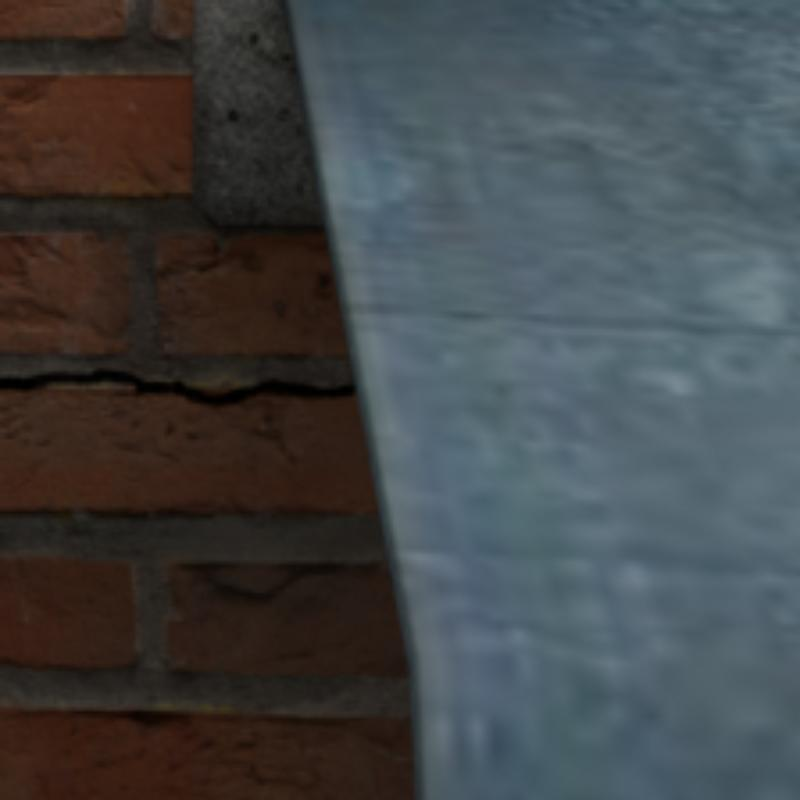pothole: (0, 368, 354, 404), (193, 564, 336, 604)
